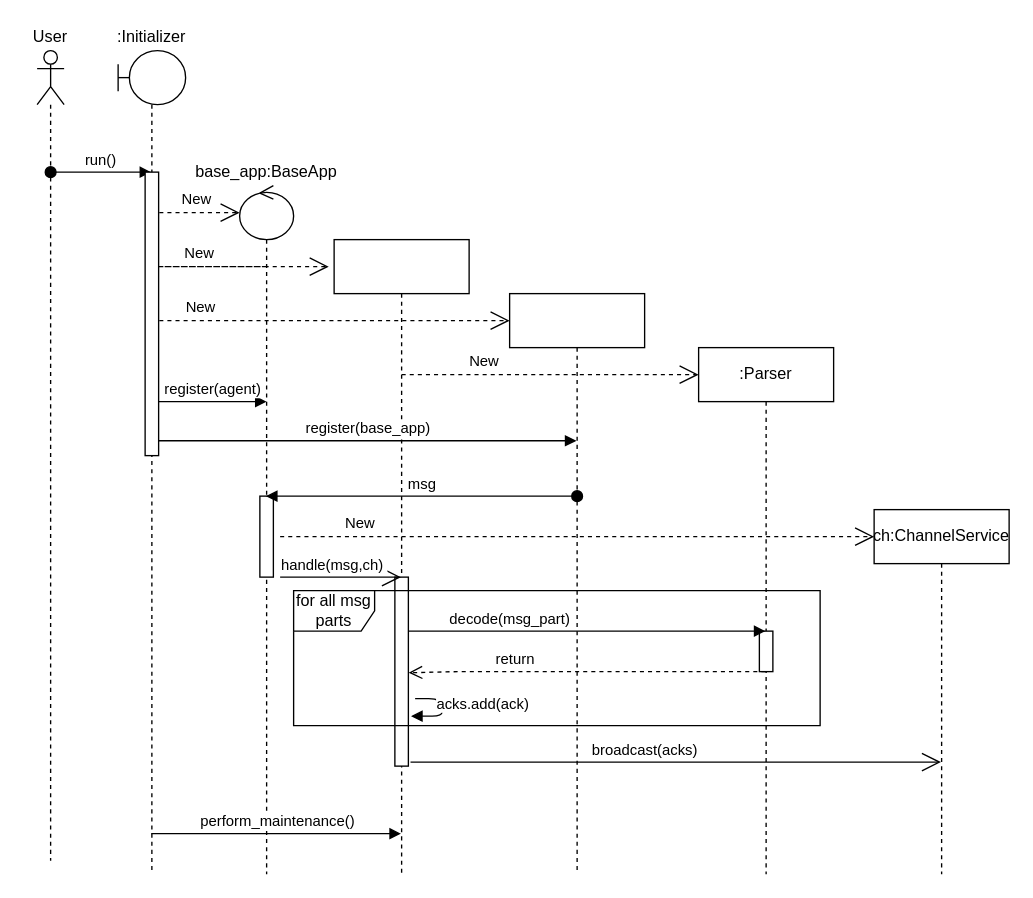
The diagram is 1033 pixels wide and 898 high, and some of its shapes have lost their labels. The shapes that lost their labels are listed below. From the top down, each one's box as (x1, y1, x2, y2) in pixels, then its label:
(333, 238, 469, 874): agent:Agent
(508, 292, 645, 874): network:Network
